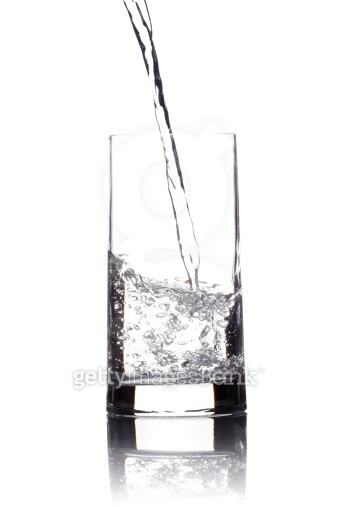glass of water: (100, 122, 250, 480)
